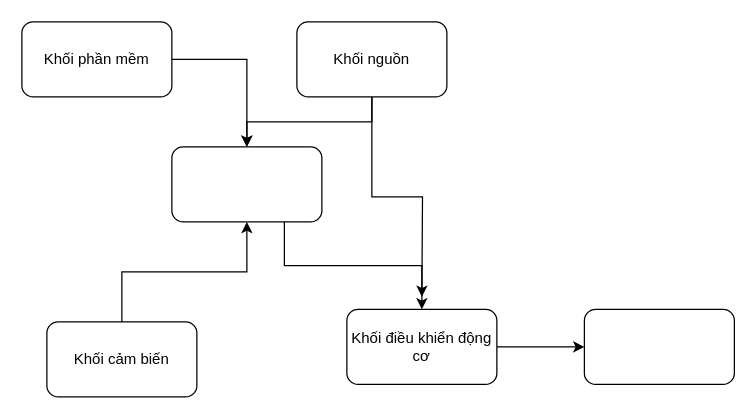
The diagram is 756 pixels wide and 419 high, and some of its shapes have lost their labels. Here are the shapes that lost their labels. From the top down, the centre of each, then its label:
At pixel 246 184: "Khối điều khiển".
At pixel 658 346: "Khối Motor".
